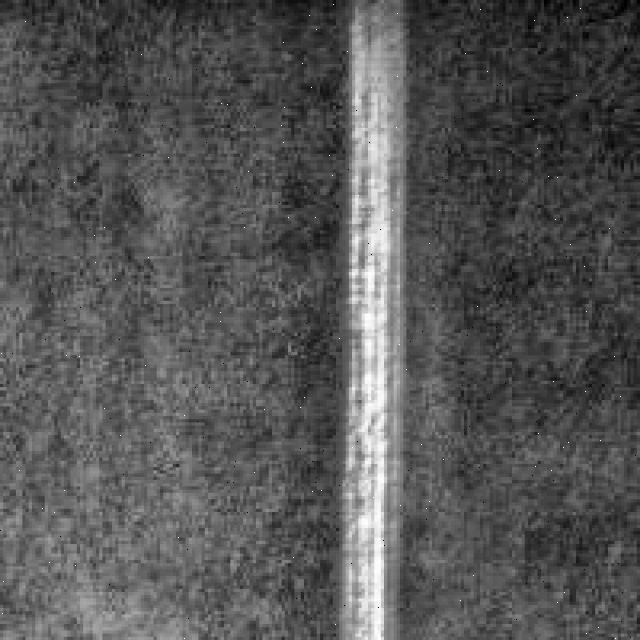Inclusion: (329, 29, 406, 634)
